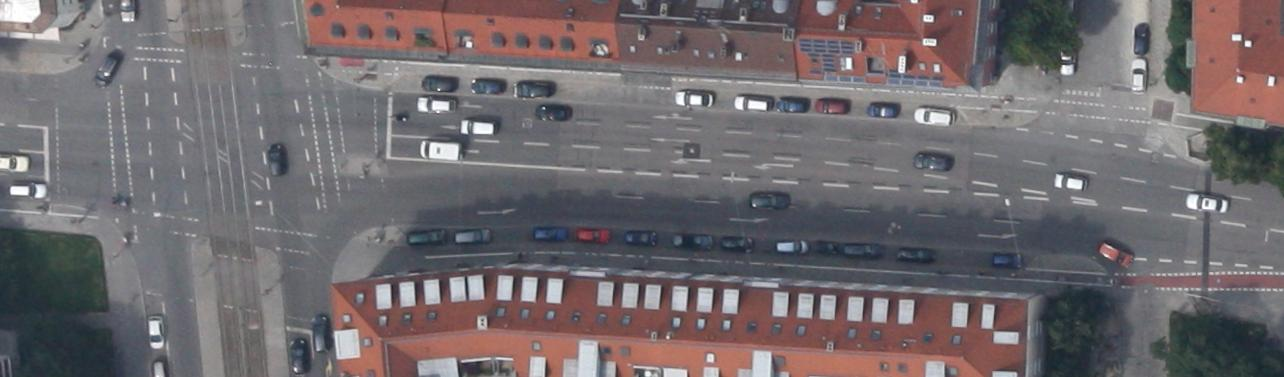car: (92, 52, 122, 88), (1098, 241, 1134, 270), (1184, 192, 1230, 214), (912, 152, 954, 172), (913, 107, 954, 126), (750, 192, 790, 210), (290, 338, 310, 374), (514, 80, 554, 98), (266, 143, 287, 176), (672, 233, 712, 250), (895, 247, 935, 264), (312, 315, 330, 352), (1054, 173, 1088, 192), (407, 229, 445, 246), (416, 97, 456, 113), (733, 95, 772, 111), (674, 91, 713, 107), (536, 104, 572, 121), (421, 75, 458, 91), (844, 243, 883, 258), (866, 100, 900, 117), (624, 229, 658, 246), (774, 238, 808, 255), (455, 228, 491, 244), (776, 96, 809, 113), (533, 226, 566, 243), (148, 315, 164, 349), (816, 98, 850, 114), (576, 228, 610, 244), (460, 119, 496, 134), (722, 236, 753, 253), (9, 184, 46, 198), (470, 78, 502, 94), (1131, 58, 1146, 92), (1133, 24, 1150, 54), (1060, 40, 1074, 76), (992, 252, 1022, 268), (815, 240, 838, 254)
